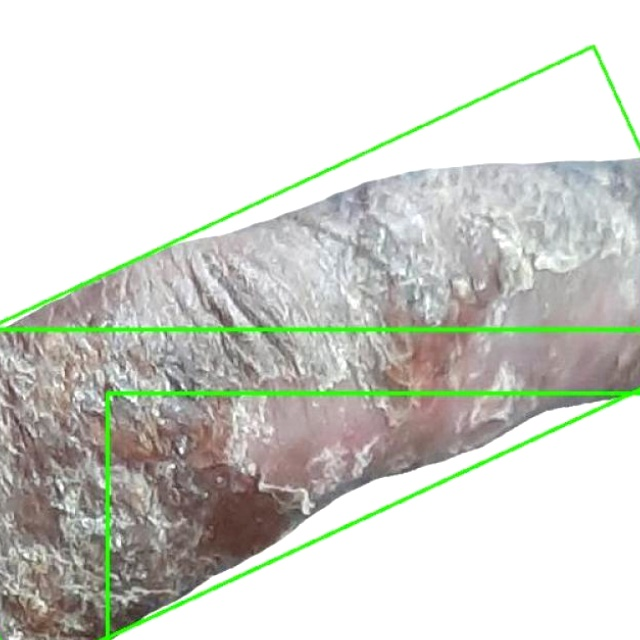Eczema: (0, 46, 639, 639), (0, 0, 639, 329), (107, 393, 639, 639)
